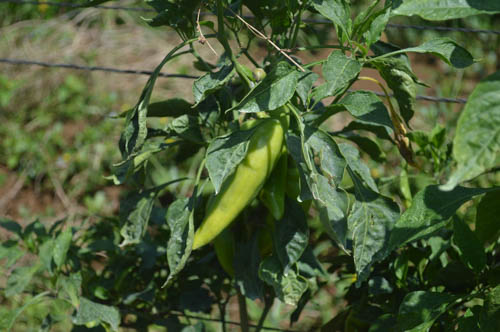ChiliPepper: (194, 122, 281, 259), (261, 109, 283, 220)
